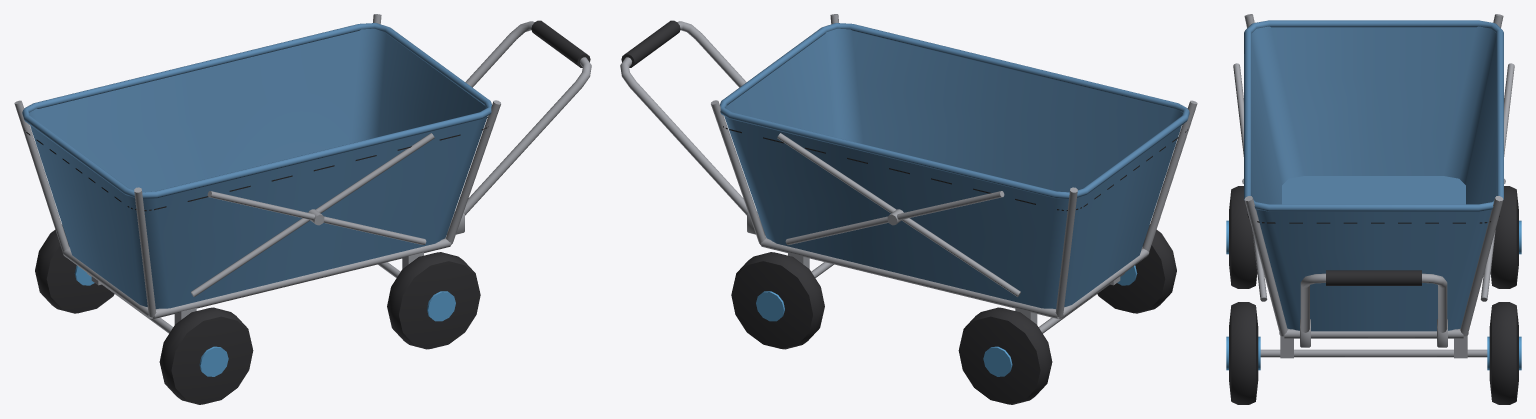
The model's file is folding-wagon.glb.
3 renders of one model, left to right at view 1: azimuth 30°, elevation 25°; view 2: azimuth 150°, elevation 25°; view 3: azimuth 270°, elevation 25°, orthographic. The views are drawn at different scales.
Parts seen in each view (by area): view 1: SM_Jam_FoldingWagon; view 2: SM_Jam_FoldingWagon; view 3: SM_Jam_FoldingWagon.
Part boxes in pixels (bbox=[...]): SM_Jam_FoldingWagon: bbox=[14, 14, 591, 404]; SM_Jam_FoldingWagon: bbox=[620, 14, 1197, 404]; SM_Jam_FoldingWagon: bbox=[1226, 14, 1521, 404].
Bounding box in the file's own units: 1.3 × 0.5699 × 0.645.
